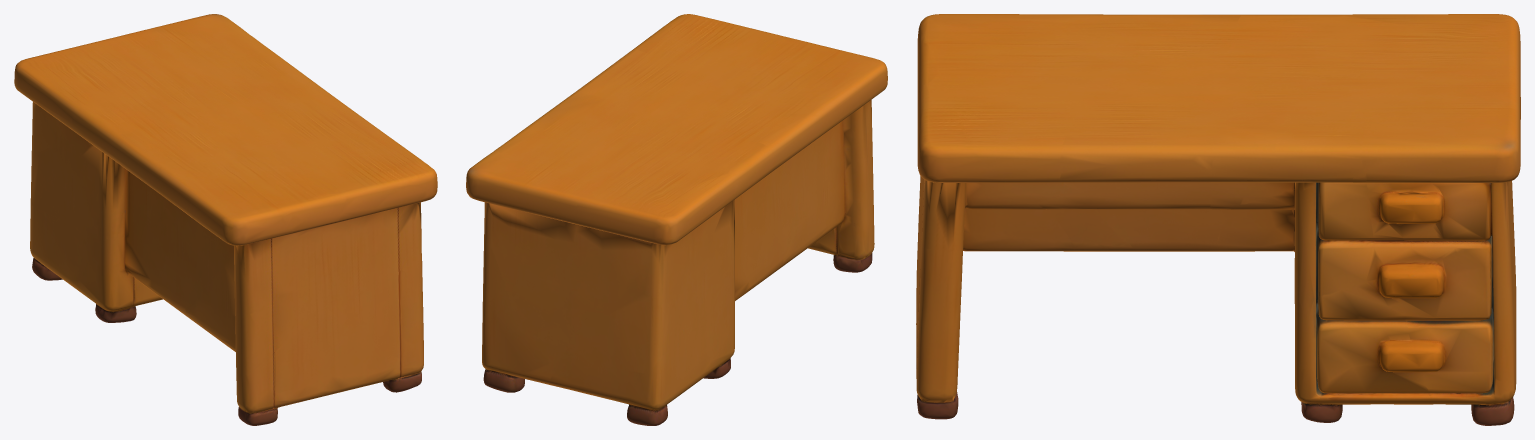
File: desk.glb
3 views of the same model, side by side, from view 1: azimuth 30°, elevation 25°; view 2: azimuth 150°, elevation 25°; view 3: azimuth 270°, elevation 25° (orthographic). The views are drawn at different scales.
Visible parts, largest first — view 1: tripo_node_2d2d7902-2234-4232-a1ed-59fbc9a8468e; view 2: tripo_node_2d2d7902-2234-4232-a1ed-59fbc9a8468e; view 3: tripo_node_2d2d7902-2234-4232-a1ed-59fbc9a8468e.
Boxes of the visible parts, x1,y1,x2,y2 form: tripo_node_2d2d7902-2234-4232-a1ed-59fbc9a8468e: (14, 14, 437, 425); tripo_node_2d2d7902-2234-4232-a1ed-59fbc9a8468e: (466, 14, 887, 425); tripo_node_2d2d7902-2234-4232-a1ed-59fbc9a8468e: (916, 14, 1520, 425).
Bounding box in the file's own units: 0.5477 × 0.5385 × 0.9999.
1 material, 1 textured.
